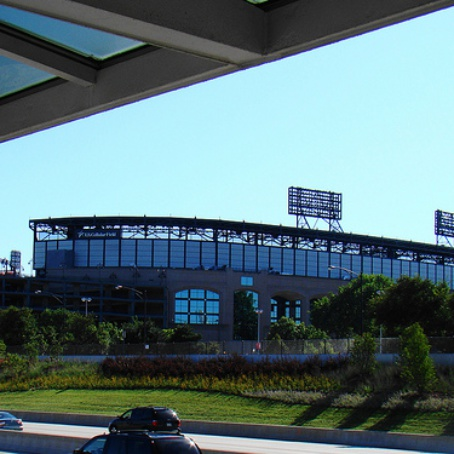building: (33, 212, 454, 344)
car: (105, 401, 183, 437)
sky: (48, 21, 454, 221)
tree: (309, 272, 387, 340), (376, 273, 454, 341), (400, 327, 437, 395), (344, 324, 381, 392), (265, 314, 322, 350)
